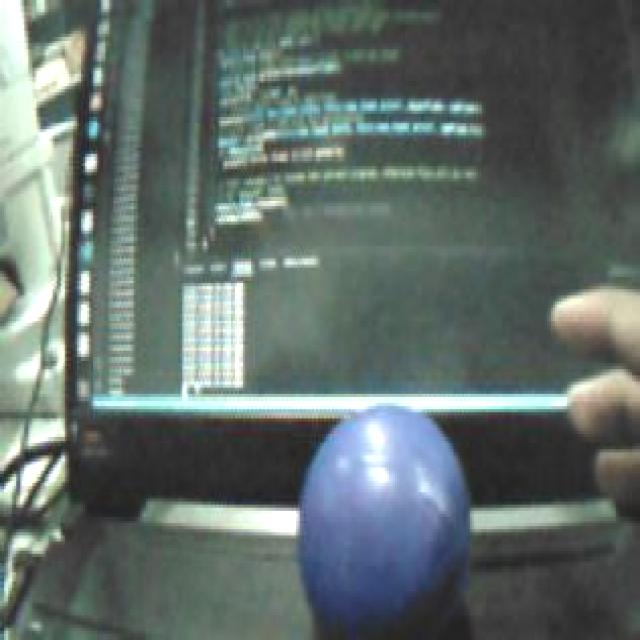BallPurple: (299, 406, 473, 640)
